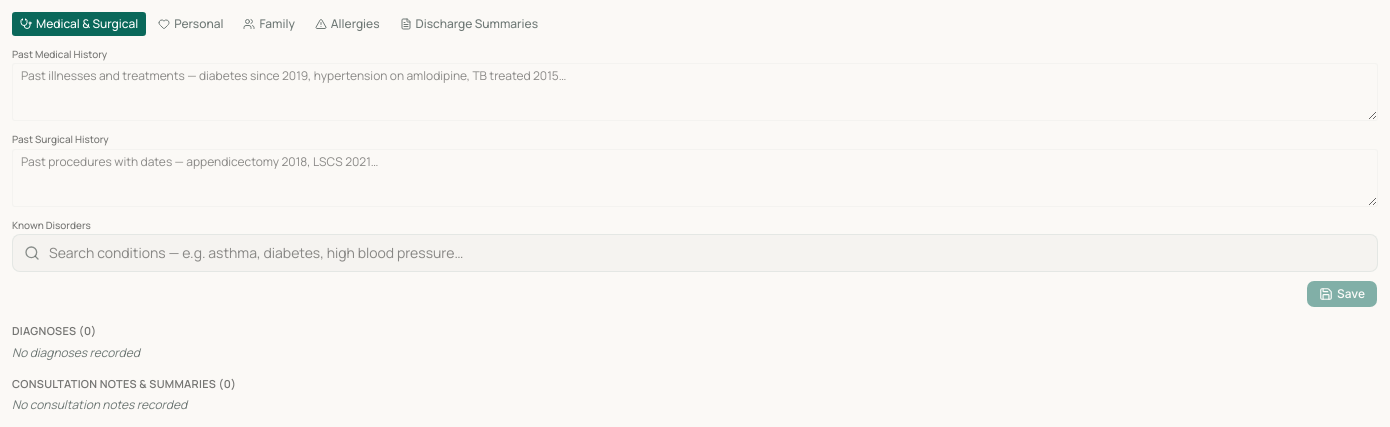
Scenario: past discharge summaries in the patient history panel › says so plainly when the patient has none
Click the button "Discharge Summaries" at (469, 24), box [392,12,546,36]
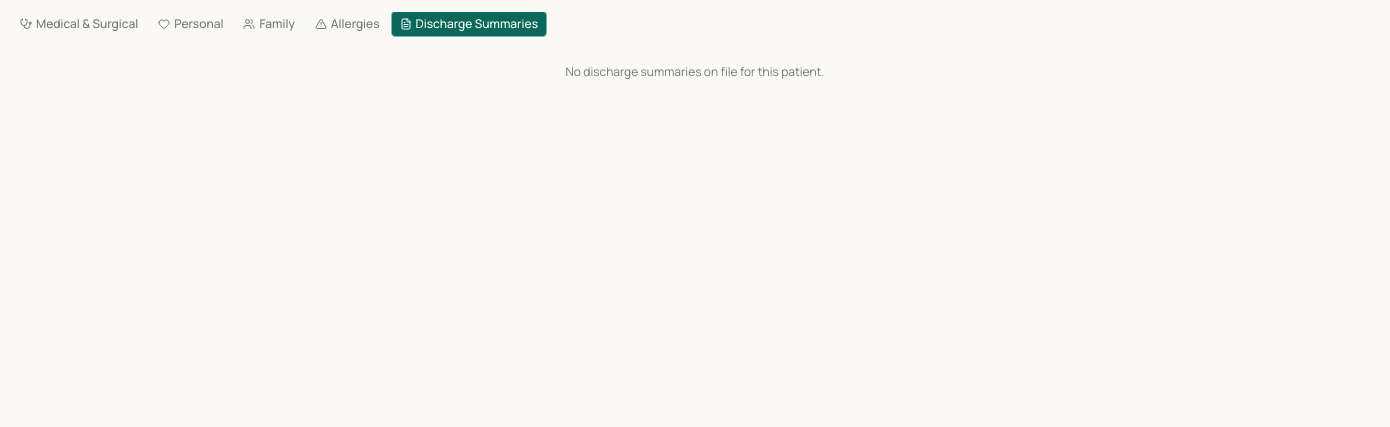
Expected: the text "No discharge summaries on file for this patient." is shown, [566,63,824,80]
